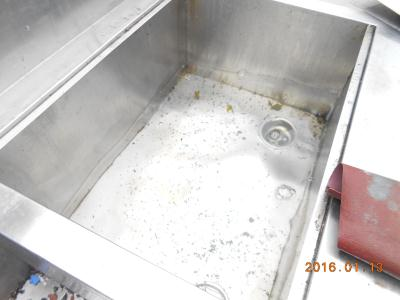box: (1, 1, 378, 300)
